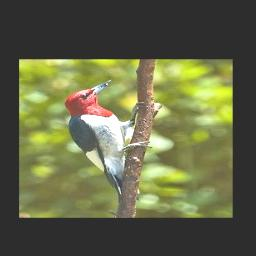Woodpecker: (63, 80, 151, 200)
